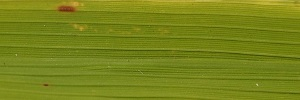RiceBrownSpot: (51, 1, 88, 18)
